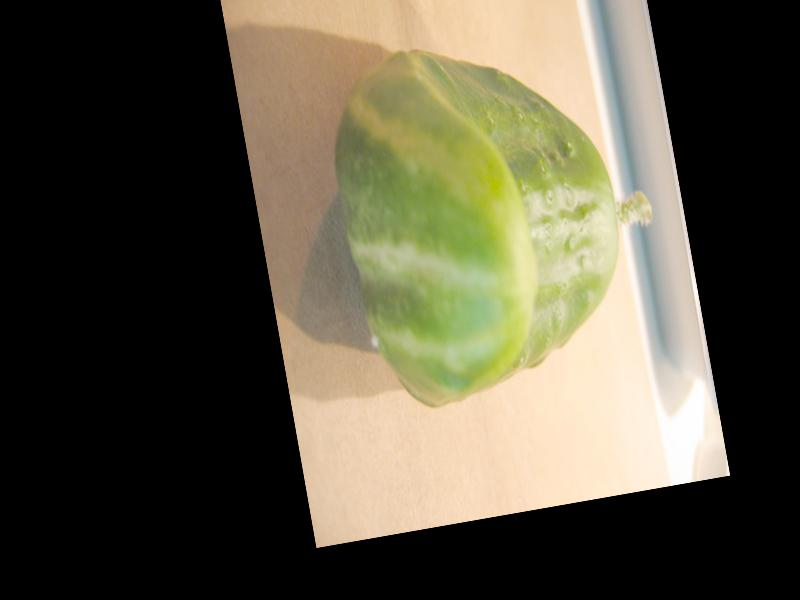Cucumber: (315, 16, 680, 420)
